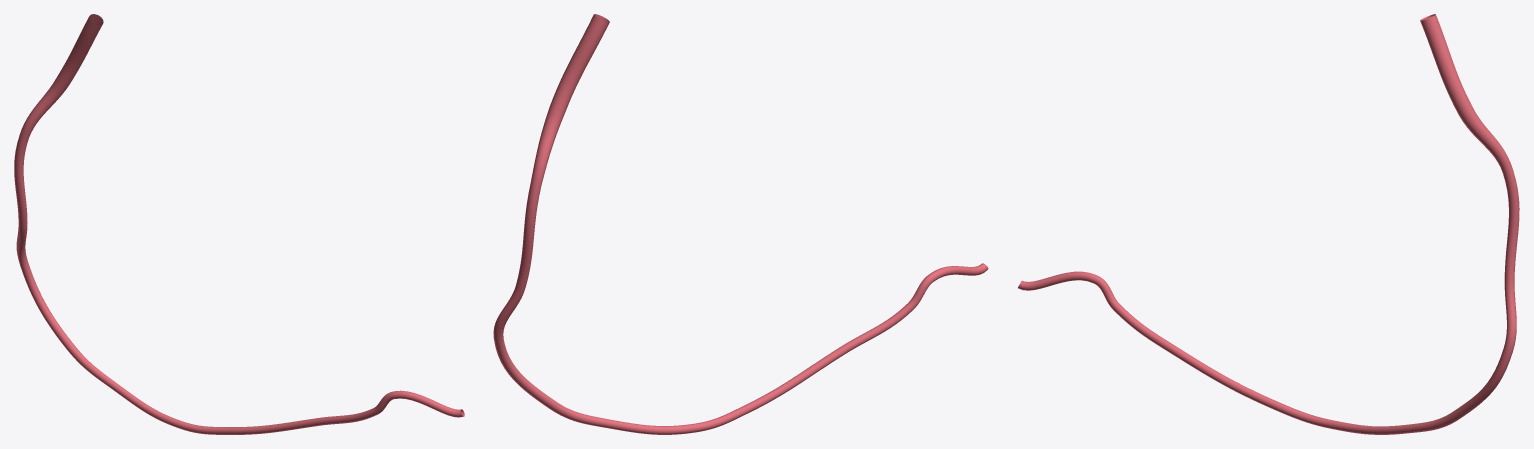
3 renders of one model, left to right at view 1: azimuth 90°, elevation 25°; view 2: azimuth 150°, elevation 25°; view 3: azimuth 270°, elevation 25°, orthographic. The views are drawn at different scales.
Visible parts, largest first — view 1: ZA_b3a218f0daa4928e; view 2: ZA_b3a218f0daa4928e; view 3: ZA_b3a218f0daa4928e.
Boxes of the visible parts, x1,y1,x2,y2 form: ZA_b3a218f0daa4928e: [14, 14, 464, 434]; ZA_b3a218f0daa4928e: [493, 14, 988, 434]; ZA_b3a218f0daa4928e: [1018, 14, 1519, 434].
Size of the model in its own units: 0.0514 by 0.0875 by 0.091.
